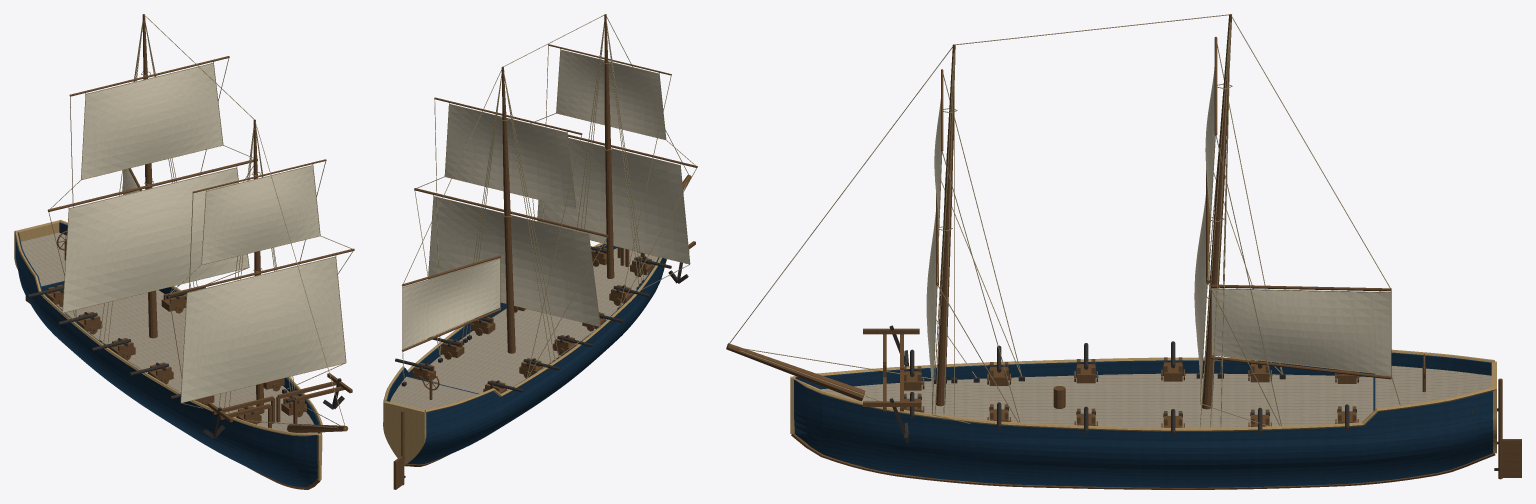
3 views of the same model, side by side, from view 1: azimuth 30°, elevation 25°; view 2: azimuth 150°, elevation 25°; view 3: azimuth 270°, elevation 25° (orthographic). The views are drawn at different scales.
Parts seen in each view (by area): view 1: lod1_fore_square_00, lod1_main_square_00, lod1_main_square_01, lod1_hull_shell_starboard, lod1_fore_square_01, lod1_main_deck, lod1_castle_deck_0, lod1_gunwale_starboard, lod1_main, lod1_main_square_00_yard, lod1_stern_closure, lod1_fore_square_00_yard (+5 smaller); view 2: lod1_main_square_00, lod1_fore_square_00, lod1_main_square_01, lod1_main_deck, lod1_hull_shell_starboard, lod1_fore_square_01, lod1_main_gaff_02, lod1_stern_closure, lod1_main, lod1_fore, lod1_castle_deck_0, lod1_gunwale_starboard (+8 smaller); view 3: lod1_hull_shell_port, lod1_main_deck, lod1_main_gaff_02, lod1_hull_shell_starboard, lod1_castle_deck_0, lod1_gunwale_port, lod1_main, lod1_fore, lod1_keel, lod1_gunwale_starboard, lod1_bowsprit, lod1_main_square_00 (+2 smaller).
Boxes of the visible parts, x1,y1,x2,y2 form: lod1_fore_square_00: [181, 257, 345, 402]; lod1_main_square_00: [63, 168, 248, 312]; lod1_main_square_01: [81, 63, 222, 179]; lod1_hull_shell_starboard: [16, 232, 317, 486]; lod1_fore_square_01: [202, 165, 319, 264]; lod1_main_deck: [56, 290, 317, 433]; lod1_castle_deck_0: [21, 232, 66, 286]; lod1_gunwale_starboard: [14, 230, 317, 436]; lod1_main: [142, 14, 157, 338]; lod1_main_square_00_yard: [47, 159, 257, 211]; lod1_stern_closure: [14, 220, 59, 269]; lod1_fore_square_00_yard: [168, 248, 354, 295]; lod1_main_square_00: [428, 197, 599, 326]; lod1_fore_square_00: [537, 138, 689, 263]; lod1_main_square_01: [445, 104, 575, 208]; lod1_main_deck: [430, 248, 658, 393]; lod1_hull_shell_starboard: [407, 257, 666, 464]; lod1_fore_square_01: [556, 50, 665, 139]; lod1_main_gaff_02: [403, 259, 499, 348]; lod1_stern_closure: [383, 401, 426, 464]; lod1_main: [501, 66, 515, 353]; lod1_fore: [604, 14, 614, 278]; lod1_castle_deck_0: [390, 376, 477, 410]; lod1_gunwale_starboard: [424, 257, 661, 412]; lod1_hull_shell_port: [794, 379, 1493, 487]; lod1_main_deck: [821, 373, 1373, 427]; lod1_main_gaff_02: [1212, 289, 1390, 374]; lod1_hull_shell_starboard: [795, 352, 1491, 389]; lod1_castle_deck_0: [1375, 366, 1491, 408]; lod1_gunwale_port: [793, 378, 1494, 431]; lod1_main: [1202, 14, 1231, 409]; lod1_fore: [936, 44, 955, 406]; lod1_keel: [791, 433, 1495, 489]; lod1_gunwale_starboard: [793, 349, 1494, 376]; lod1_bowsprit: [726, 343, 865, 401]; lod1_main_square_00: [1194, 195, 1206, 393].
Bounding box in the file's own units: 9.88 × 17.21 × 26.09.
Materials: 7 (7 with a texture image).
